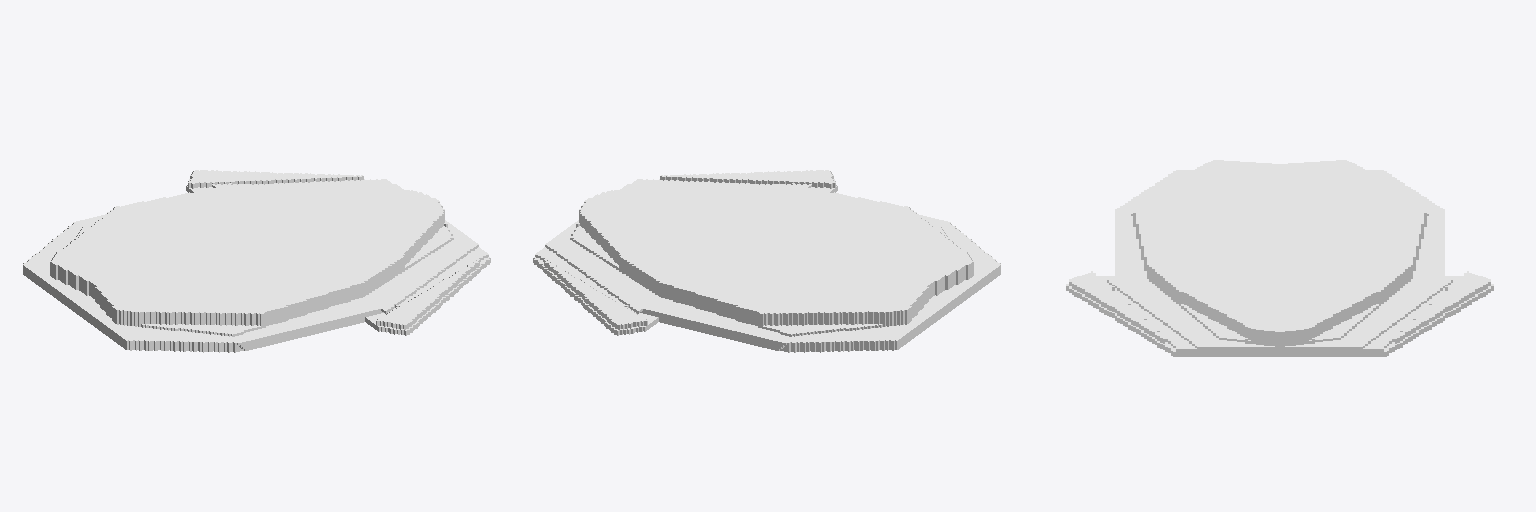
Rendered from ReichMainTurretUp.obj.
3 views of the same model, side by side, from view 1: azimuth 30°, elevation 25°; view 2: azimuth 150°, elevation 25°; view 3: azimuth 270°, elevation 25° (orthographic).
Visible parts, largest first — view 1: object 1; view 2: object 1; view 3: object 1.
Part boxes in pixels (left/top/right/bottom): object 1: left=23, top=170, right=490, bottom=352; object 1: left=533, top=170, right=1000, bottom=352; object 1: left=1066, top=160, right=1493, bottom=356.
Size of the model in its own units: 15.7 by 1 by 16.